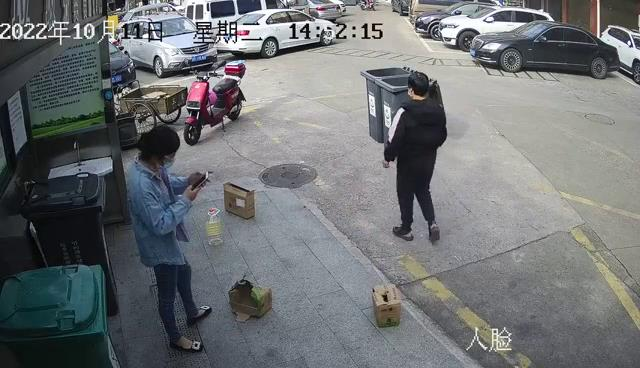person: (379, 70, 452, 247)
suliaozhipin: (202, 204, 227, 249)
worker: (122, 121, 220, 357)
zhizhipin: (225, 272, 276, 328), (369, 280, 403, 332), (221, 180, 259, 222)
